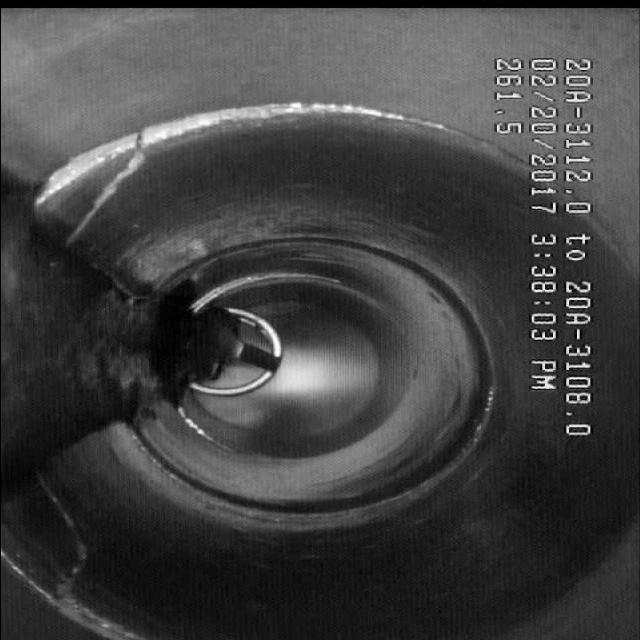Crack: (46, 142, 192, 246)
